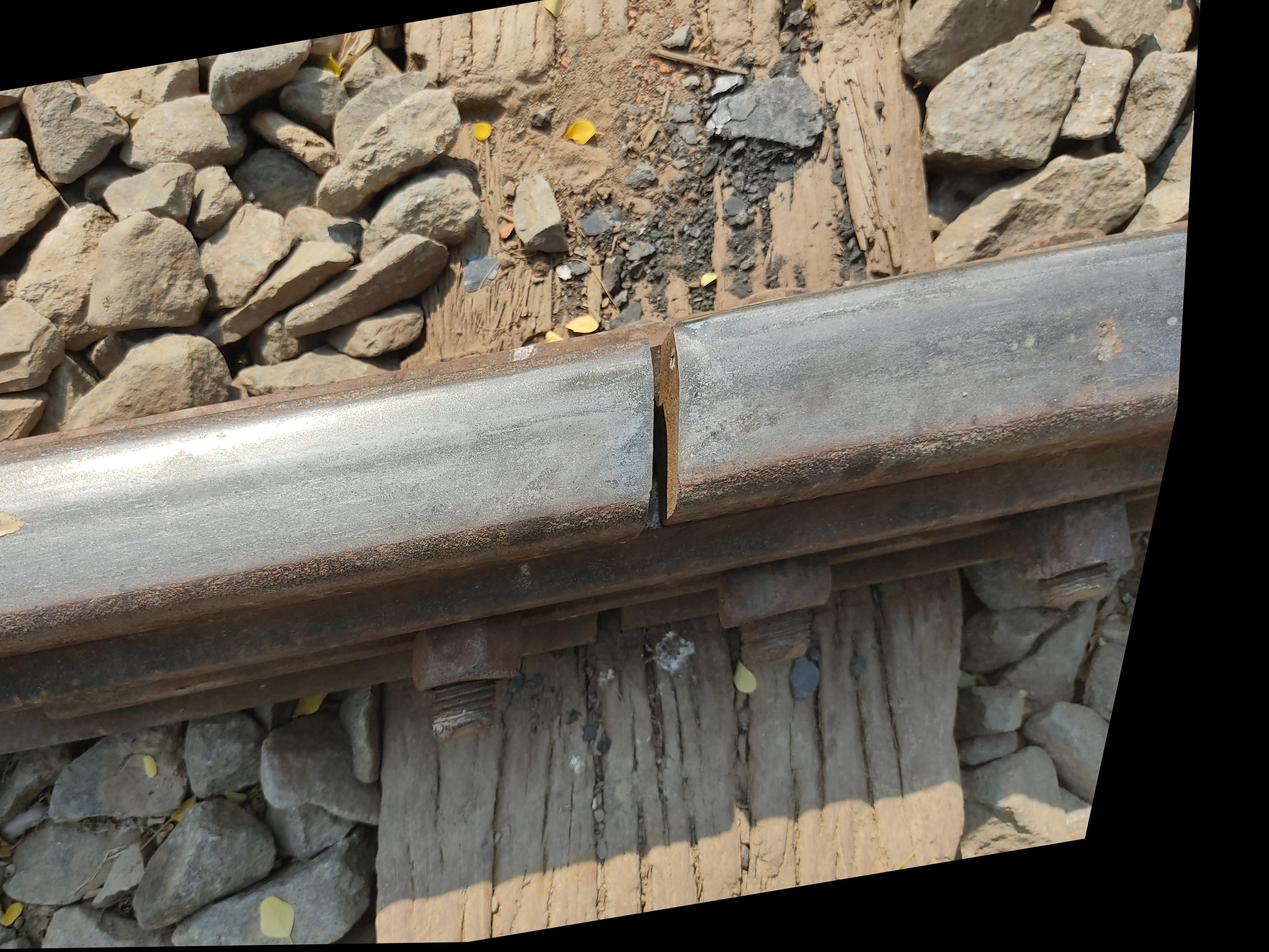person: (395, 377, 810, 704)
